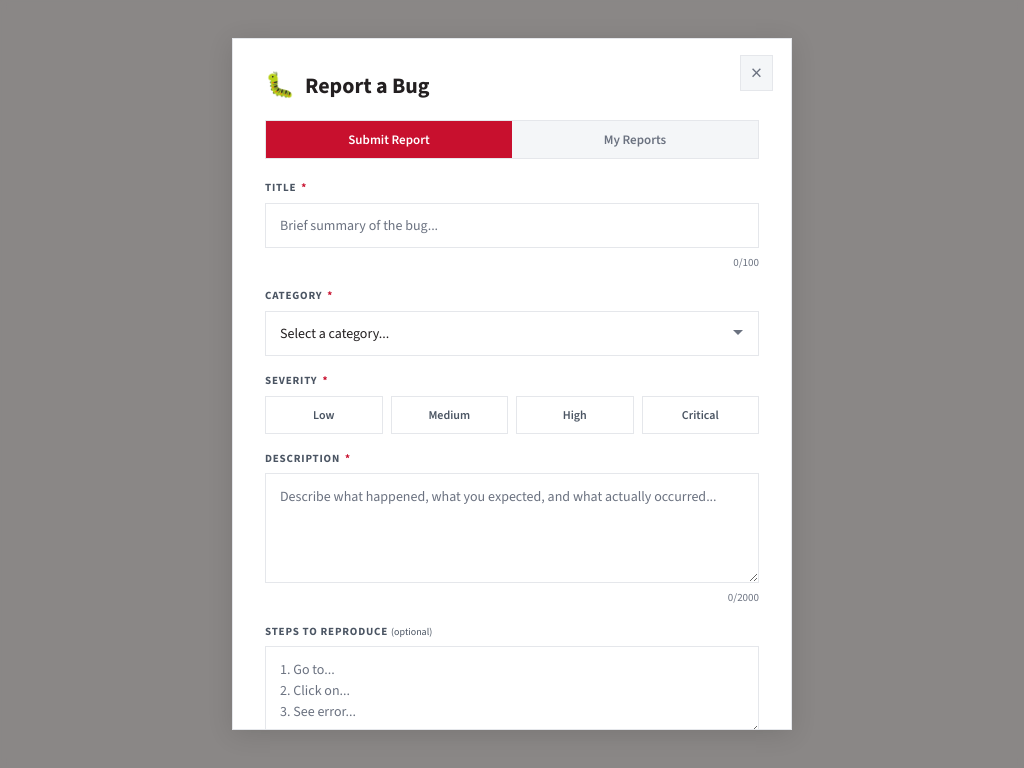
Test: BugReportModal › form interactions › should update title character count when typing
The image size is (1024, 768).
Type "Test bug" into the field with id "bug-title" at point(512, 225), box [265,203,759,248]
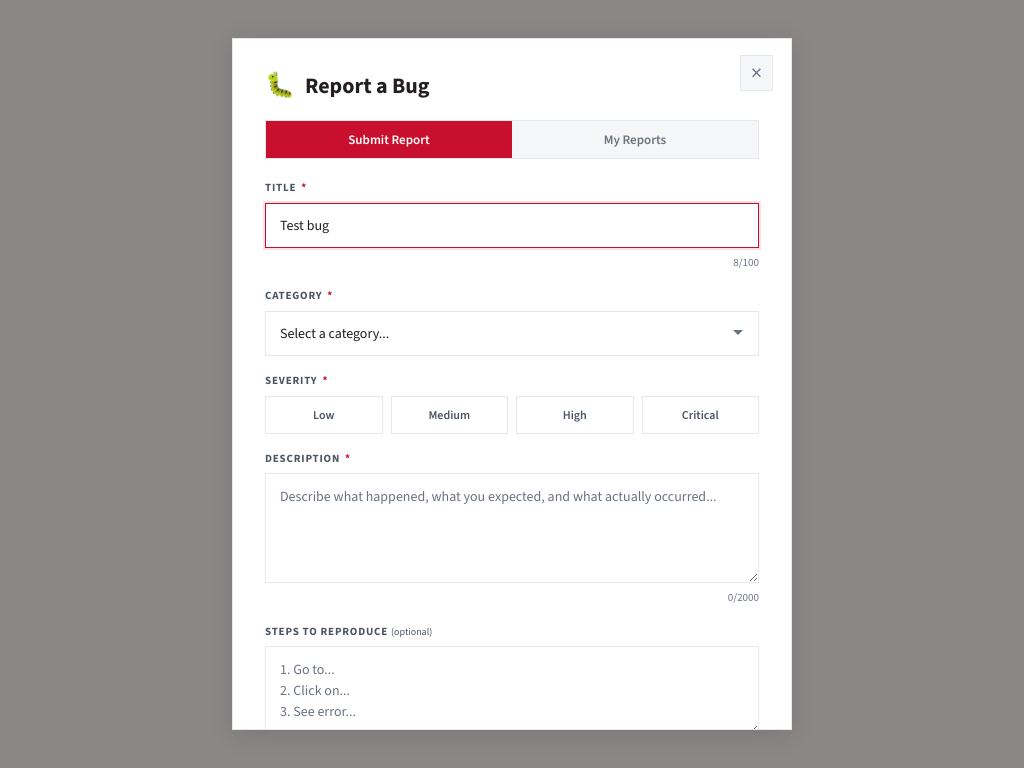
expect the text "8/100" is shown: met, box [733,255,759,270]
